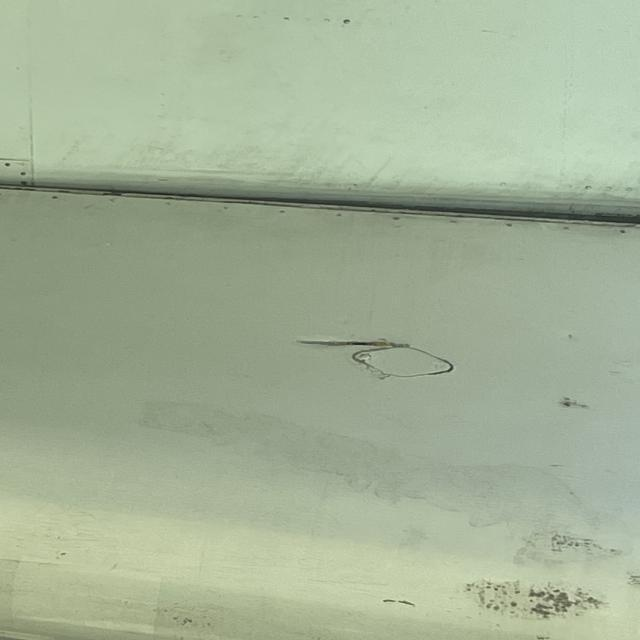crack: (292, 331, 417, 352)
